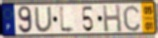5: (81, 6, 95, 32)
9: (17, 6, 33, 35)
C: (122, 4, 142, 33)
H: (101, 4, 123, 34)
L: (59, 4, 77, 35)
U: (33, 6, 54, 34)
